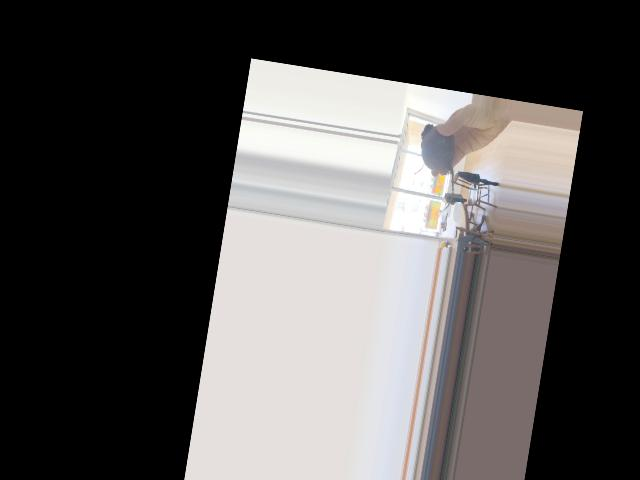beet: (409, 123, 463, 211)
